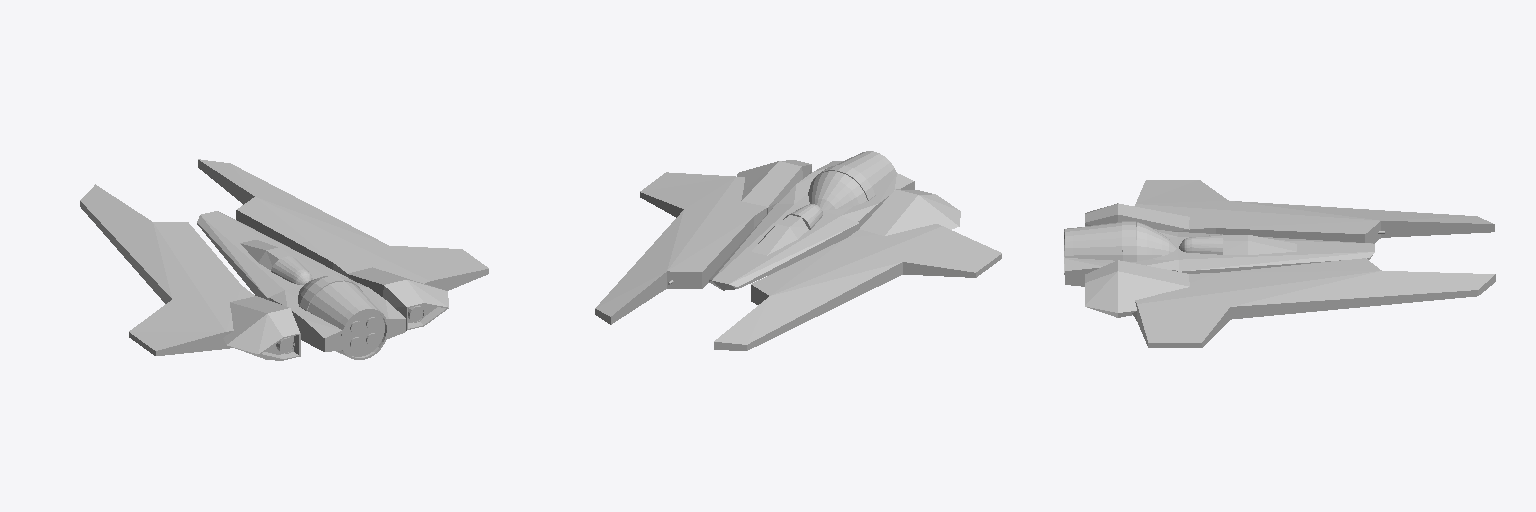
Rendered from Fang.obj.
The picture shows the model from 3 angles: view 1: azimuth 30°, elevation 25°; view 2: azimuth 150°, elevation 25°; view 3: azimuth 270°, elevation 25°; orthographic projection.
Parts seen in each view (by area): view 1: PROTECAPETA; view 2: PROTECAPETA; view 3: PROTECAPETA.
Boxes of the visible parts, <box> form: PROTECAPETA: <box>80,159,488,360</box>; PROTECAPETA: <box>595,151,1001,350</box>; PROTECAPETA: <box>1064,180,1495,347</box>.
Bounding box in the file's own units: 2.7 × 0.4966 × 3.01.